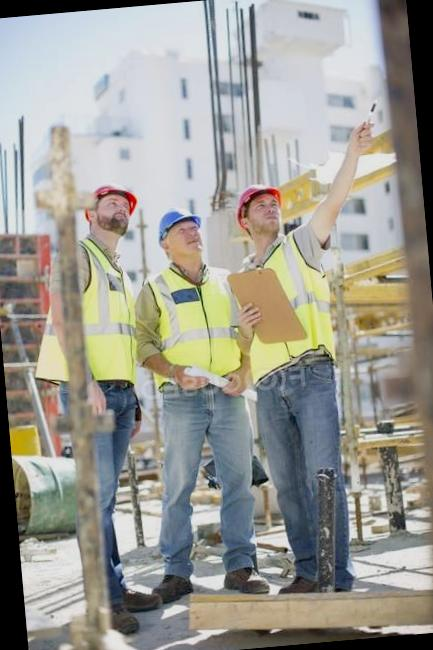person: (18, 185, 177, 650), (126, 196, 274, 602), (225, 171, 366, 594)
